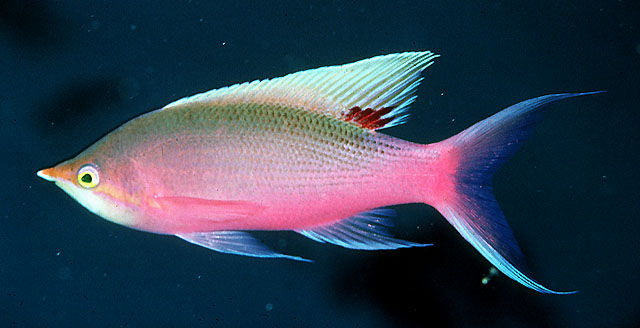fish: (36, 50, 605, 296)
